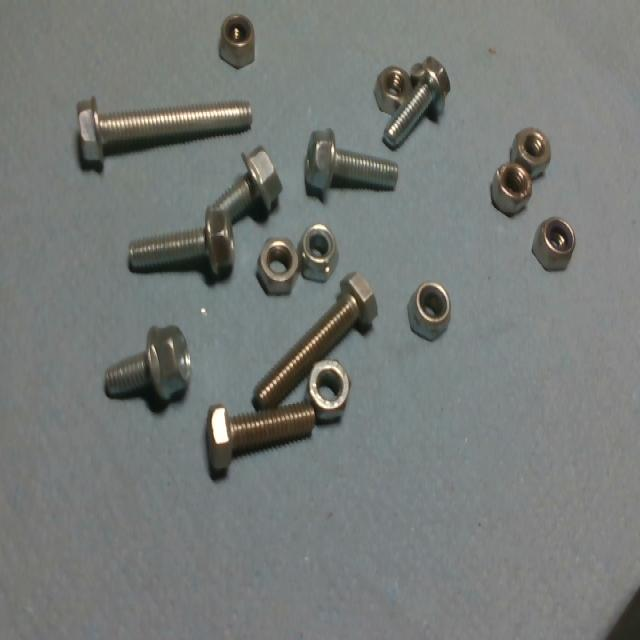Bolt: (251, 272, 378, 413), (78, 97, 253, 175), (206, 400, 315, 475), (128, 208, 234, 285), (103, 325, 190, 412), (304, 128, 401, 200), (382, 57, 450, 149), (204, 147, 281, 227)
Nut: (407, 281, 450, 343), (256, 239, 300, 299), (307, 357, 351, 417), (297, 223, 340, 281), (532, 217, 575, 272), (490, 163, 530, 217), (509, 128, 550, 180), (218, 15, 255, 71), (372, 67, 414, 116)
